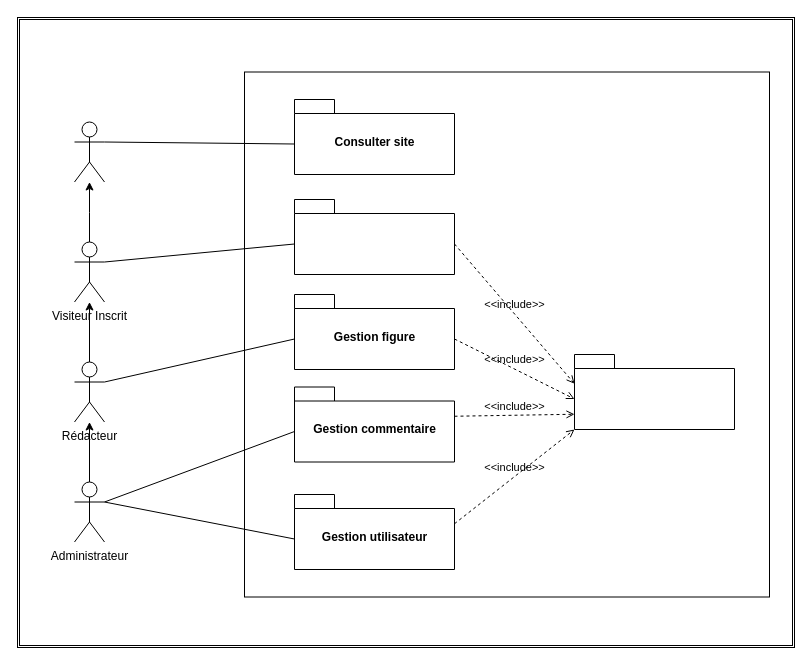
The diagram is 812 pixels wide and 665 high, and some of its shapes have lost their labels. The shapes that lost their labels are listed below. From the top down, each one's centre as x and y in pixels, then its label:
At point (89, 151): "Visiteur".
At point (374, 236): "Gestion profil".
At point (654, 392): "Authentification".
